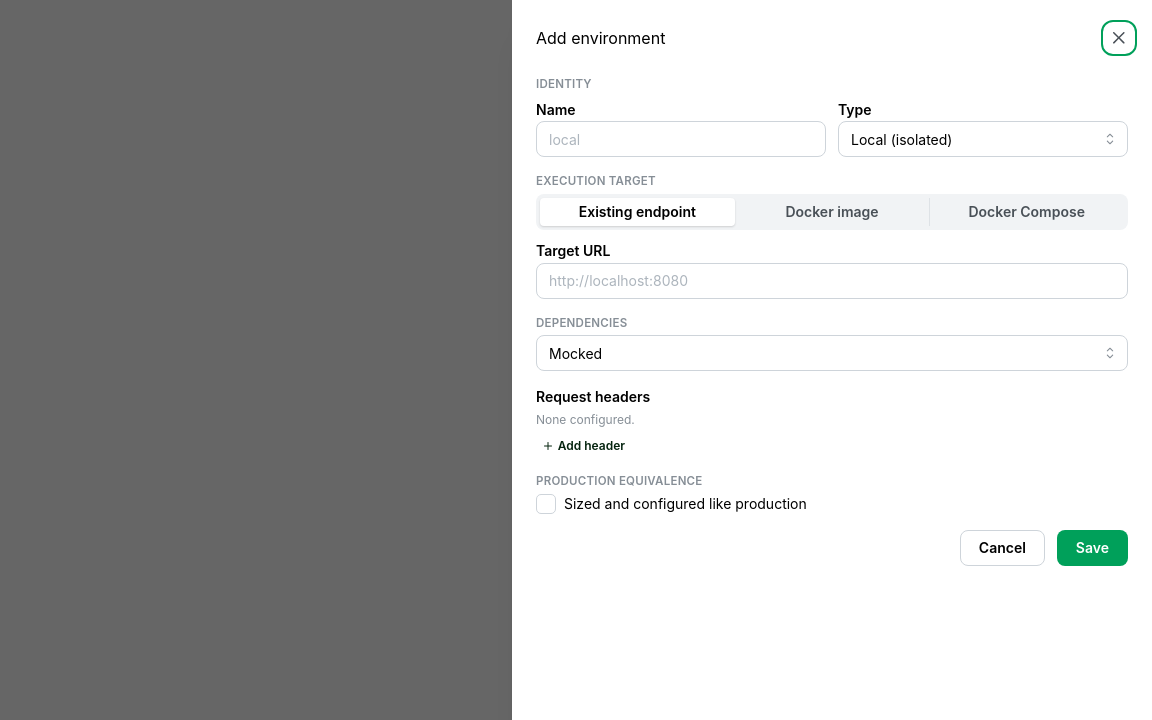
Test case: EnvironmentDrawer › shows the validation result once it arrives
Click the radio button labelled "Docker Compose". click: (1027, 212)
box: [968,203,1085,220]
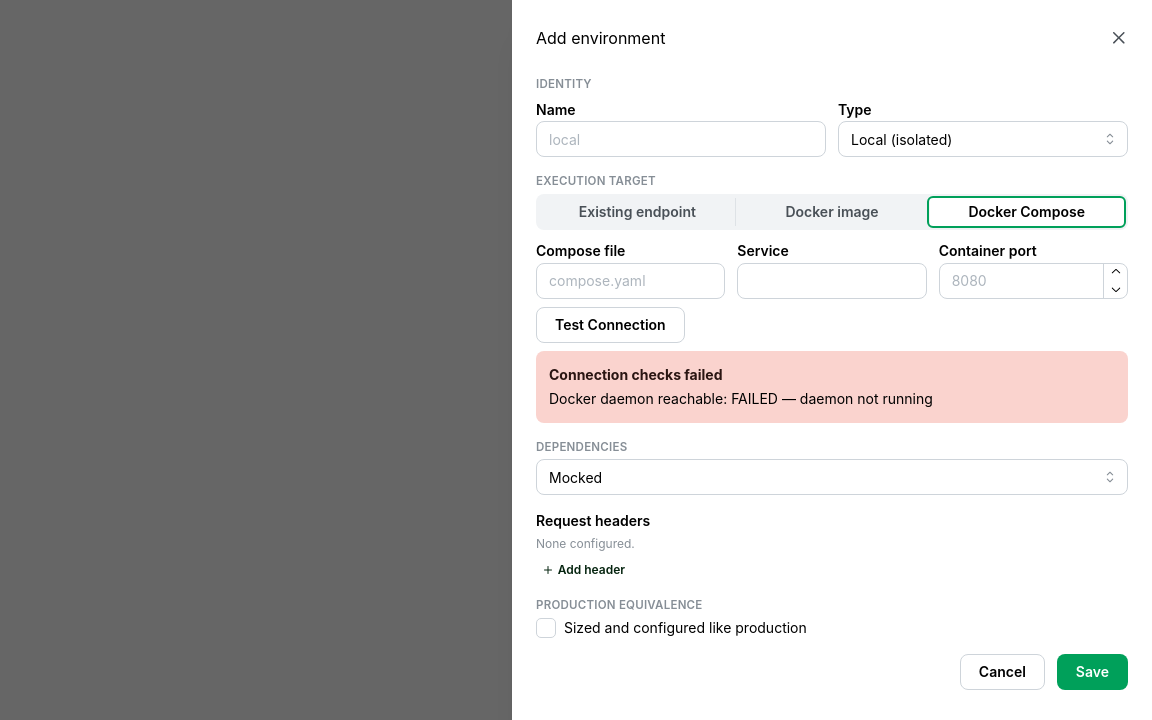
Result: the text "Connection checks failed" is shown at [549,364,722,385]
Result: the text "Docker daemon reachable: FAILED — daemon not running" is shown at [549,390,933,407]
